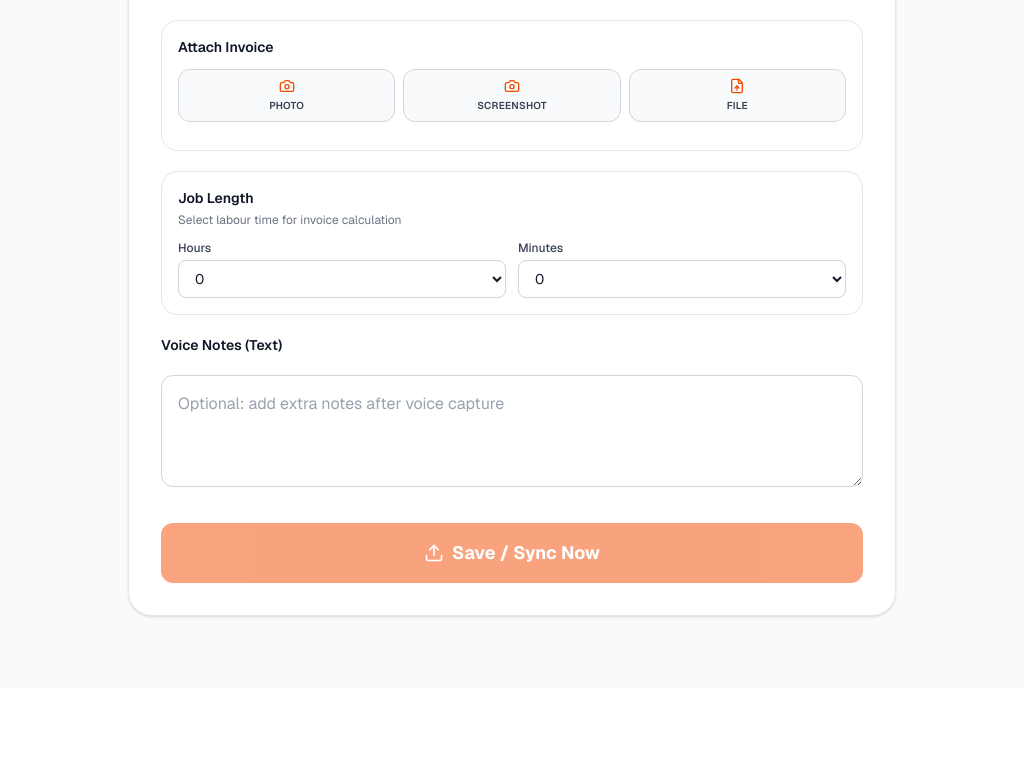
Scenario: Capture page logic › saves offline draft when voice notes are present
The image size is (1024, 768).
(page scrolled)
In the text box labelled "Voice Notes (Text)": coordinates (512, 431) [161,375,863,487], type "Installed RCD and polarity checks"
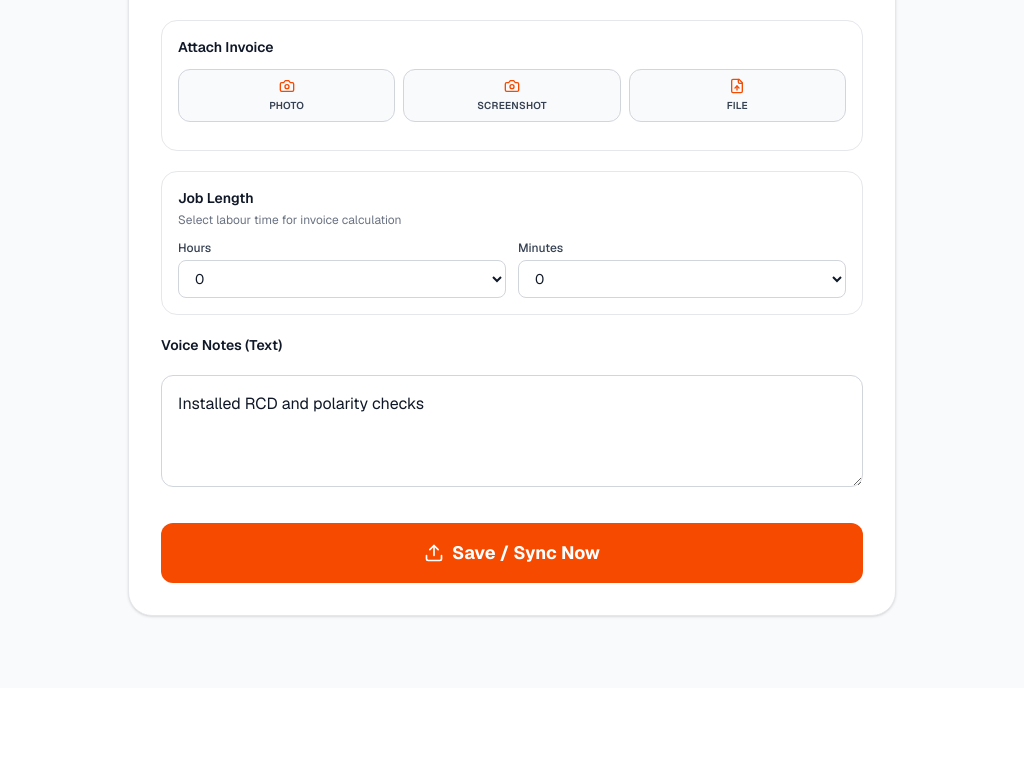
Click the button "Save / Sync Now": coordinates (512, 553) [161,523,863,583]
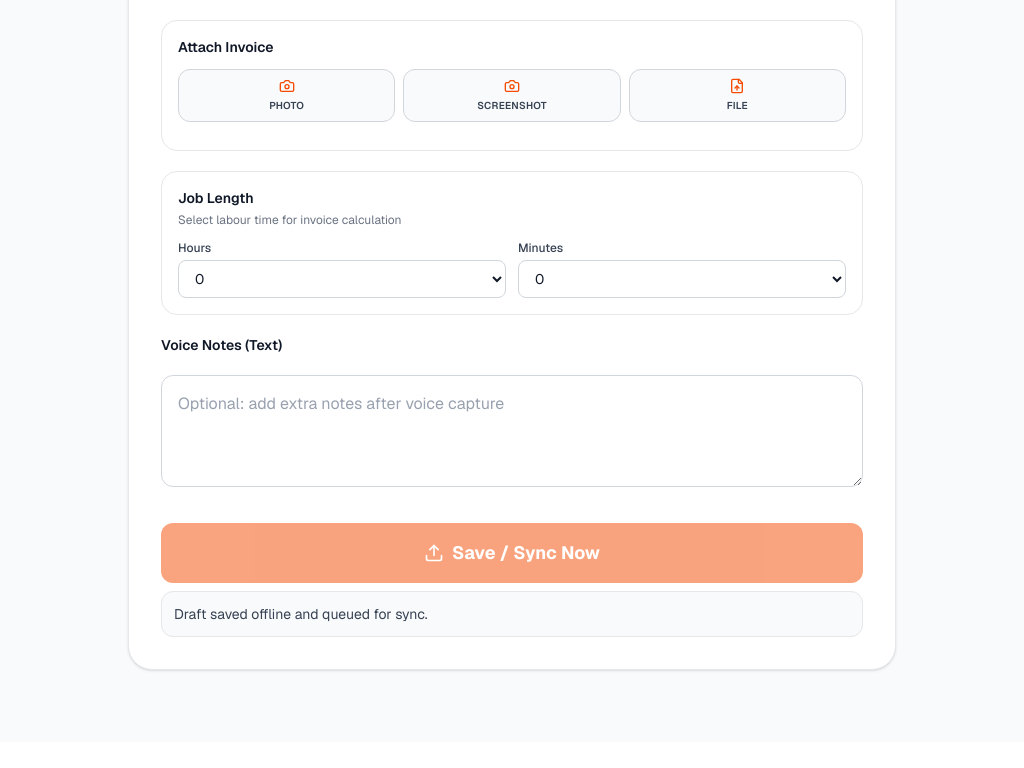
Check: the text "Draft saved offline and queued for sync." is shown, box [161,591,863,637]
